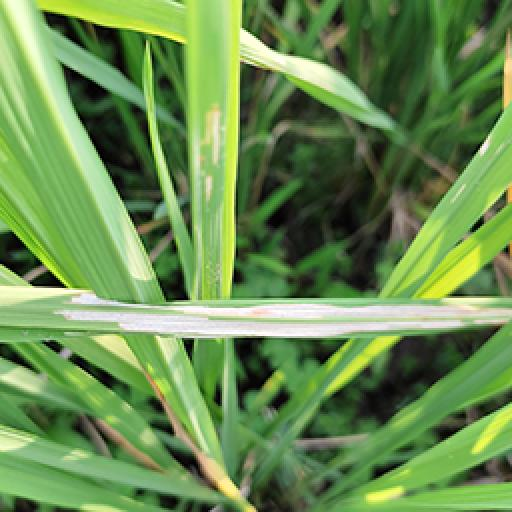Bacterial Leaf Blight: (50, 290, 512, 350), (174, 100, 258, 212), (112, 206, 162, 286), (464, 136, 506, 164), (444, 180, 472, 208)
